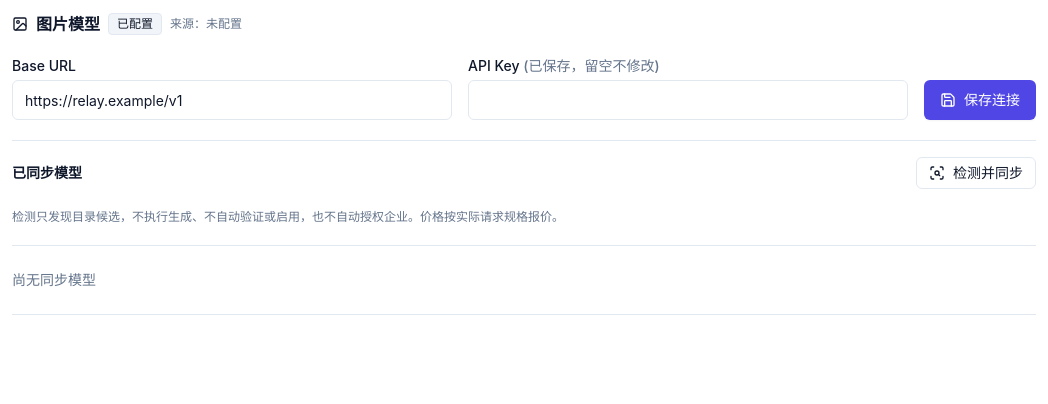
Test: media connection drafts › keeps the draft and key after a failed save so it can be retried
Replace the text in the field labelled "Base URL" with "https://draft.example/v1" at (232, 100), box x1=12 y1=80 x2=452 y2=120
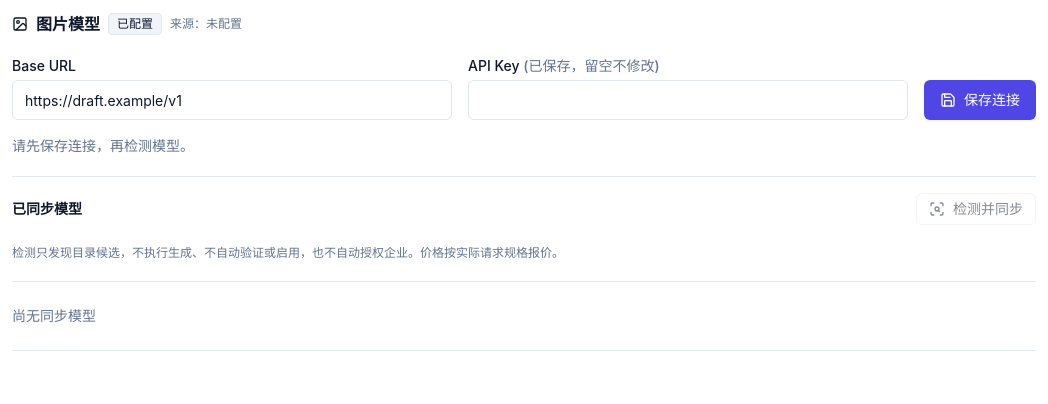
Type "draft-key" into the password field labelled "API Key (已保存，留空不修改)" at (688, 100), box x1=468 y1=80 x2=908 y2=120
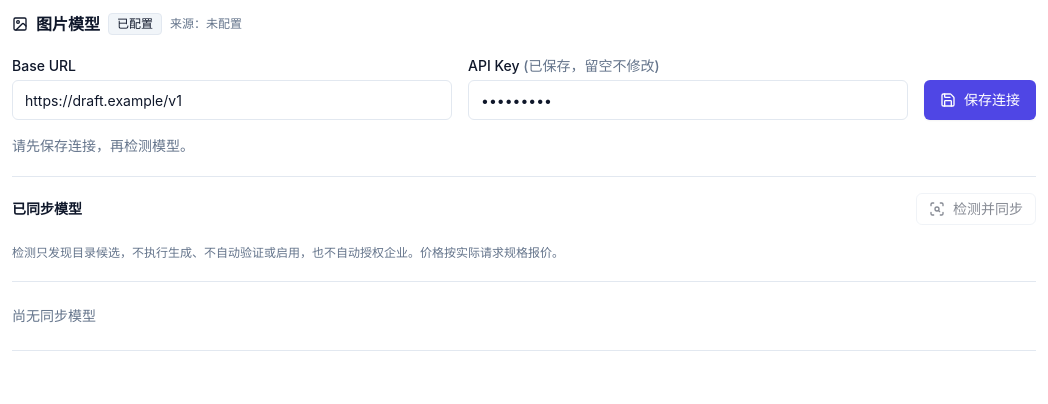
Click the button "保存连接" at (980, 100), box x1=924 y1=80 x2=1036 y2=120
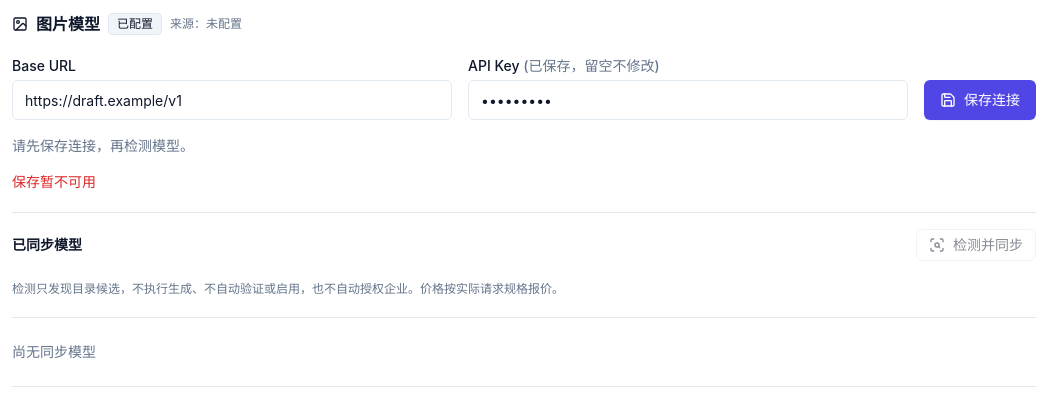
Expected: the button "检测并同步" is disabled, x1=916 y1=229 x2=1036 y2=261
Expected: the message reads "保存暂不可用", x1=12 y1=173 x2=96 y2=190
